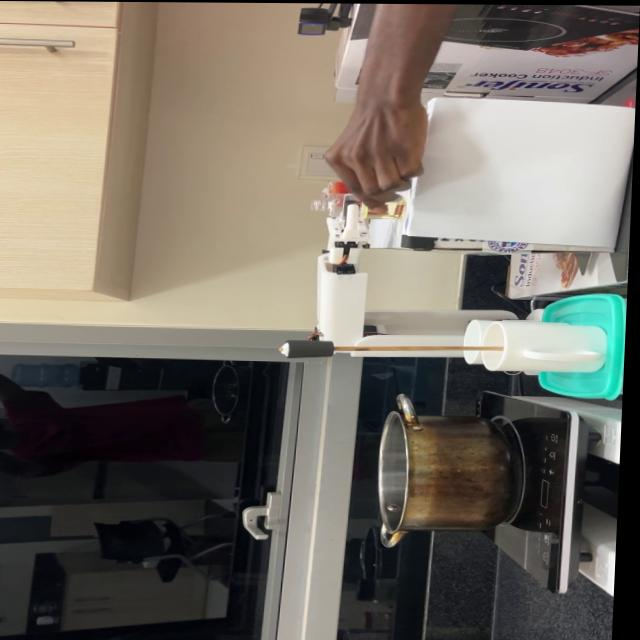cooking_pot: (375, 388, 531, 543)
oil: (346, 197, 411, 212)
spatula: (315, 339, 500, 353)
